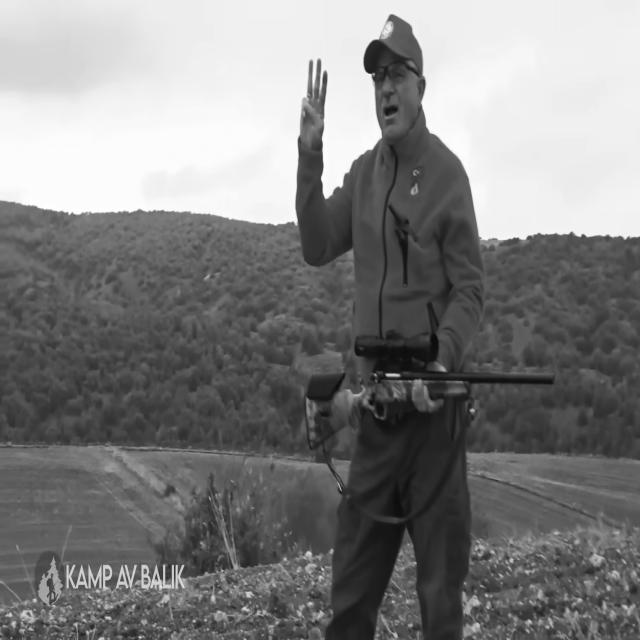monkey: (296, 14, 484, 370), (347, 380, 464, 516), (407, 450, 470, 637), (326, 498, 403, 637)
